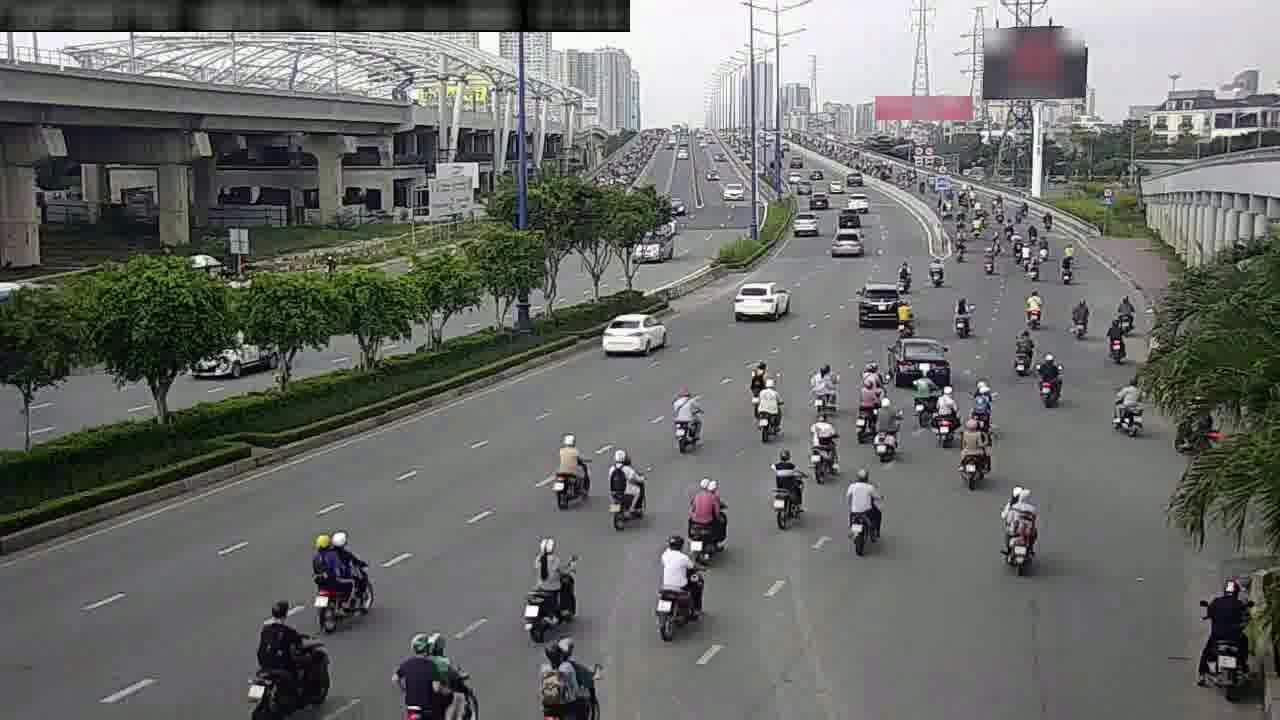container: (601, 305, 668, 358), (731, 271, 790, 323), (892, 332, 951, 381), (855, 280, 910, 324)
motorbike: (246, 610, 337, 714), (1192, 564, 1259, 702), (306, 523, 379, 625), (391, 630, 476, 716), (520, 536, 583, 635), (647, 535, 707, 633), (536, 639, 607, 714), (992, 485, 1043, 567), (602, 445, 651, 528), (680, 474, 730, 555), (543, 426, 593, 507), (838, 470, 886, 552), (763, 445, 809, 528), (952, 418, 995, 487), (666, 387, 706, 456), (1105, 376, 1148, 437), (747, 373, 785, 438), (804, 420, 841, 484), (806, 357, 842, 415), (870, 404, 904, 463), (1030, 355, 1065, 409), (848, 384, 880, 442), (928, 386, 960, 444), (964, 379, 998, 431), (740, 358, 771, 410), (857, 358, 888, 409), (1007, 329, 1037, 378), (1101, 318, 1132, 365), (907, 372, 937, 420), (1061, 295, 1092, 339), (947, 295, 977, 339), (1109, 292, 1140, 333), (1017, 286, 1046, 327), (892, 305, 919, 342), (891, 256, 917, 292), (923, 253, 949, 288), (1053, 254, 1078, 288), (976, 246, 997, 277), (1023, 250, 1043, 282)
